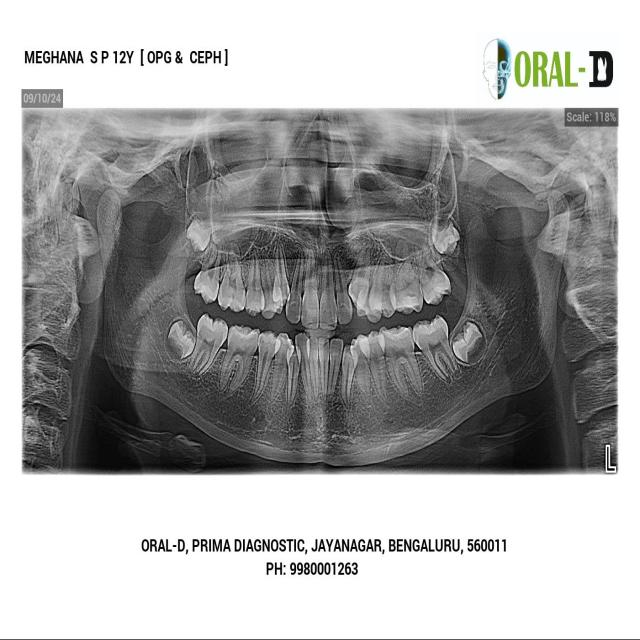Premolars: (367, 328, 391, 408), (349, 330, 372, 408)
